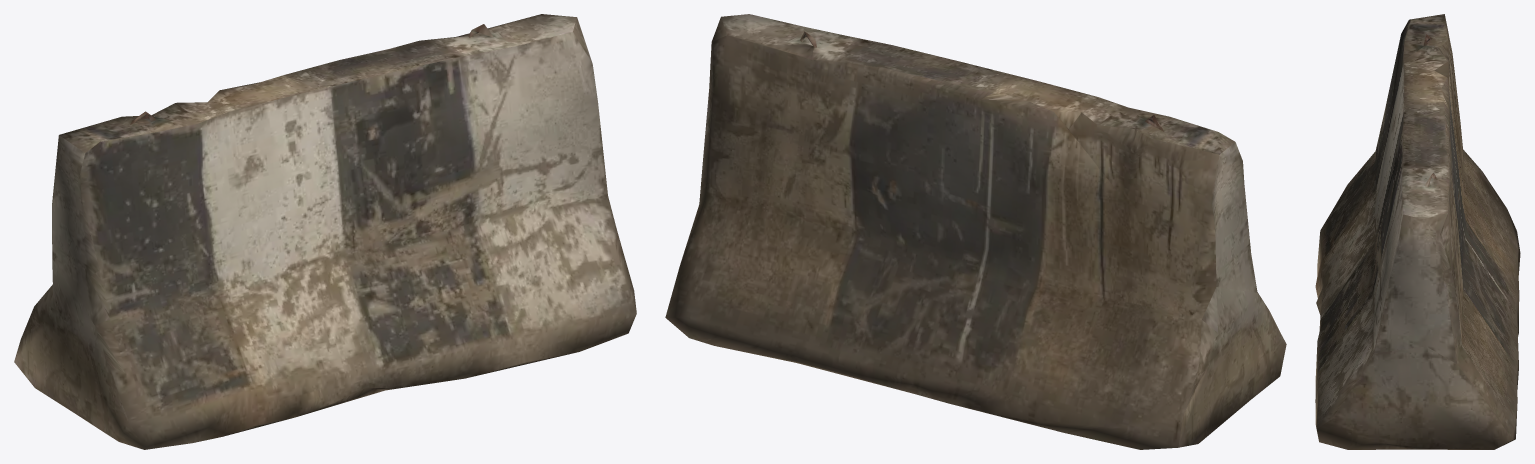
Rendered from concrete_road_barrier.glb.
3 views of the same model, side by side, from view 1: azimuth 30°, elevation 25°; view 2: azimuth 150°, elevation 25°; view 3: azimuth 270°, elevation 25° (orthographic). The views are drawn at different scales.
Visible parts, largest first — view 1: concrete_road_barrier; view 2: concrete_road_barrier; view 3: concrete_road_barrier.
Boxes of the visible parts, x1,y1,x2,y2 form: concrete_road_barrier: (14, 14, 636, 449); concrete_road_barrier: (665, 14, 1286, 449); concrete_road_barrier: (1315, 14, 1520, 449).
Bounding box in the file's own units: 1.54 × 0.8328 × 0.6344.
1 material, 1 textured.
